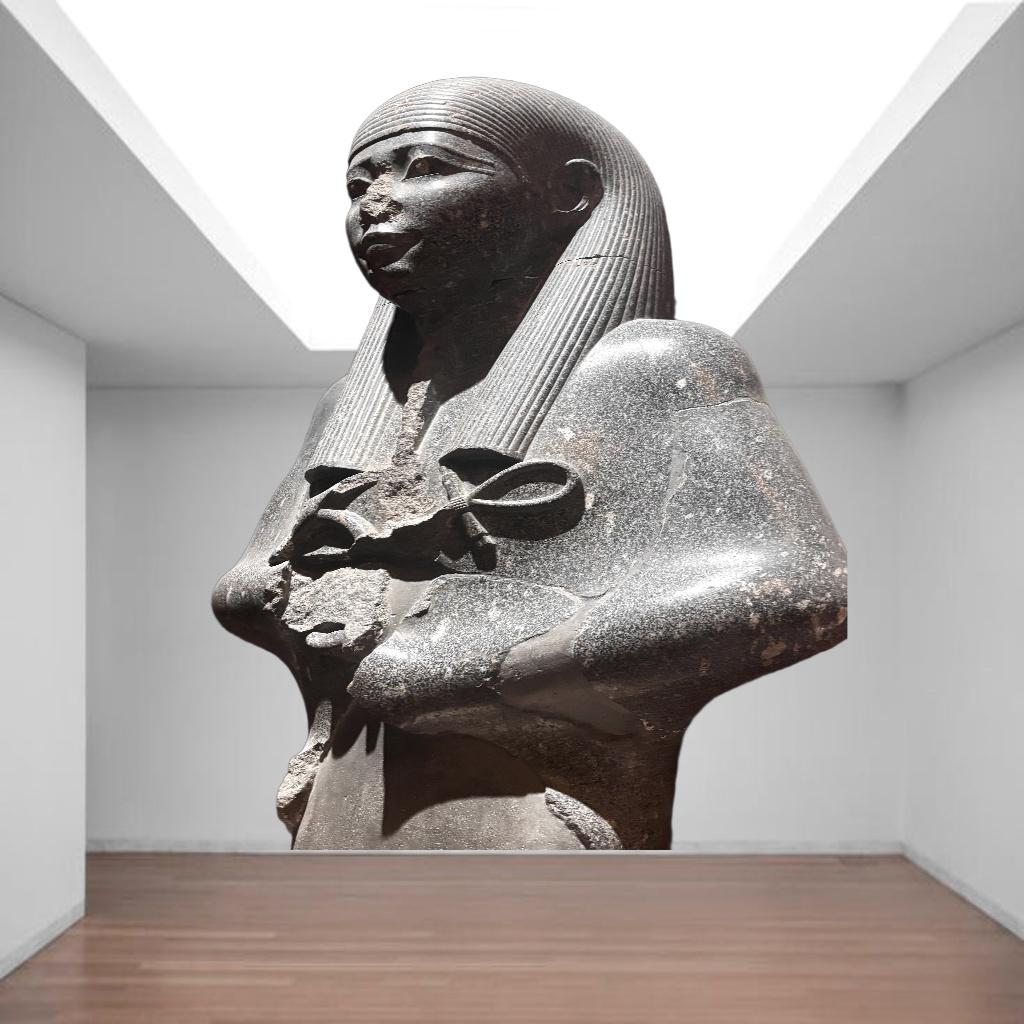Granite Statue of Osiris: (210, 72, 848, 850)
